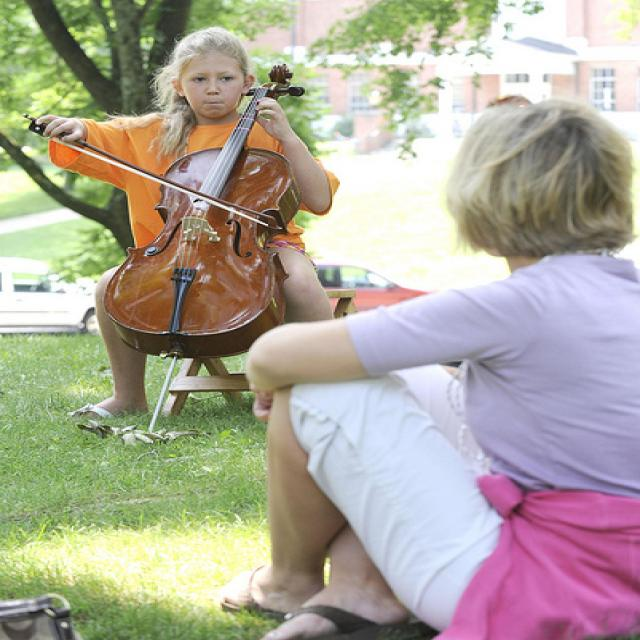cello: (105, 64, 295, 361)
